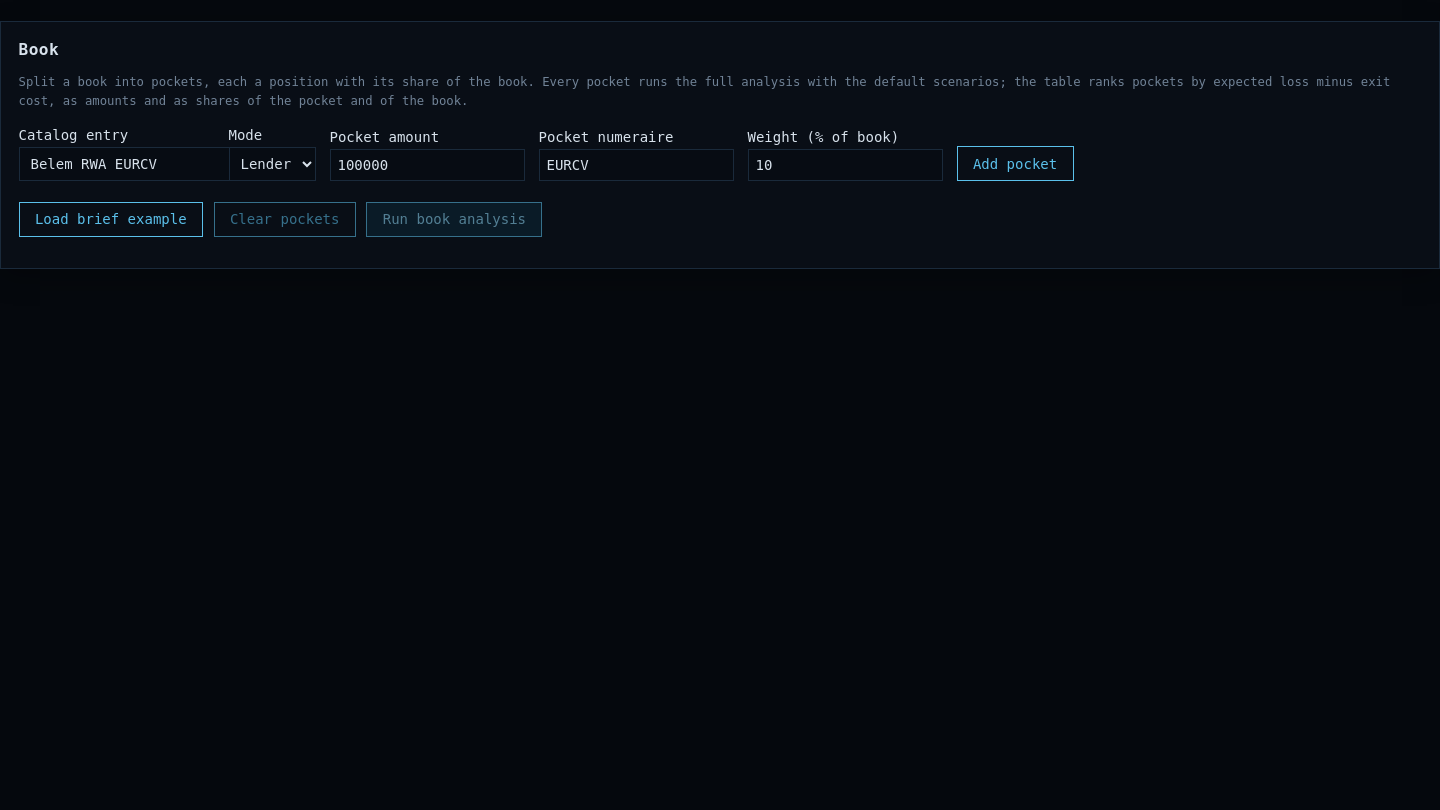
Test case: BookPanel › loads the brief example, runs it, and shows a ranked table with book totals
The width and height of the screenshot is (1440, 810).
Click the button "Load brief example" at (111, 219), box [18, 202, 203, 237]
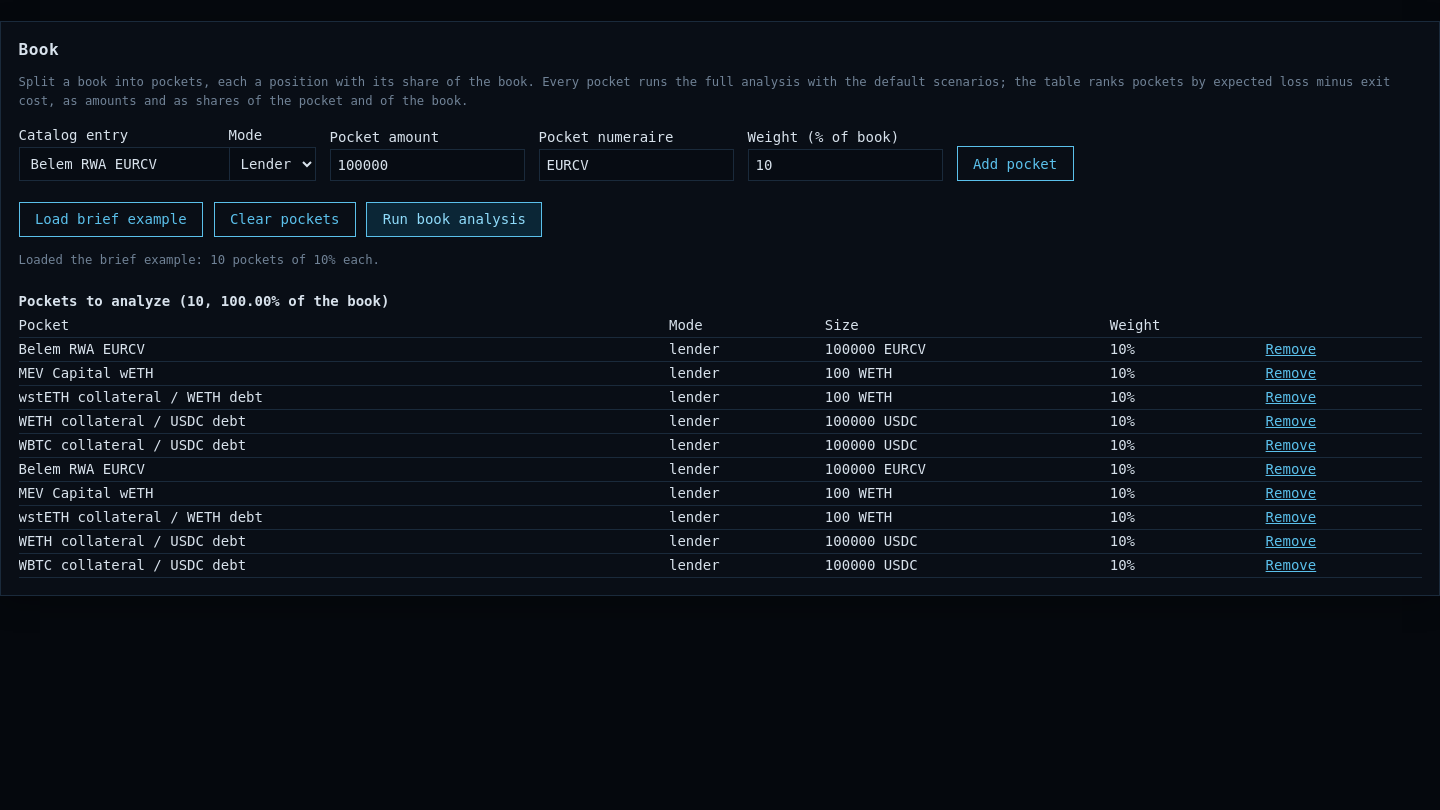
Expected: the number of rows is 11
Click the button "Run book analysis" at (454, 219), box [366, 202, 542, 237]
(page scrolled)
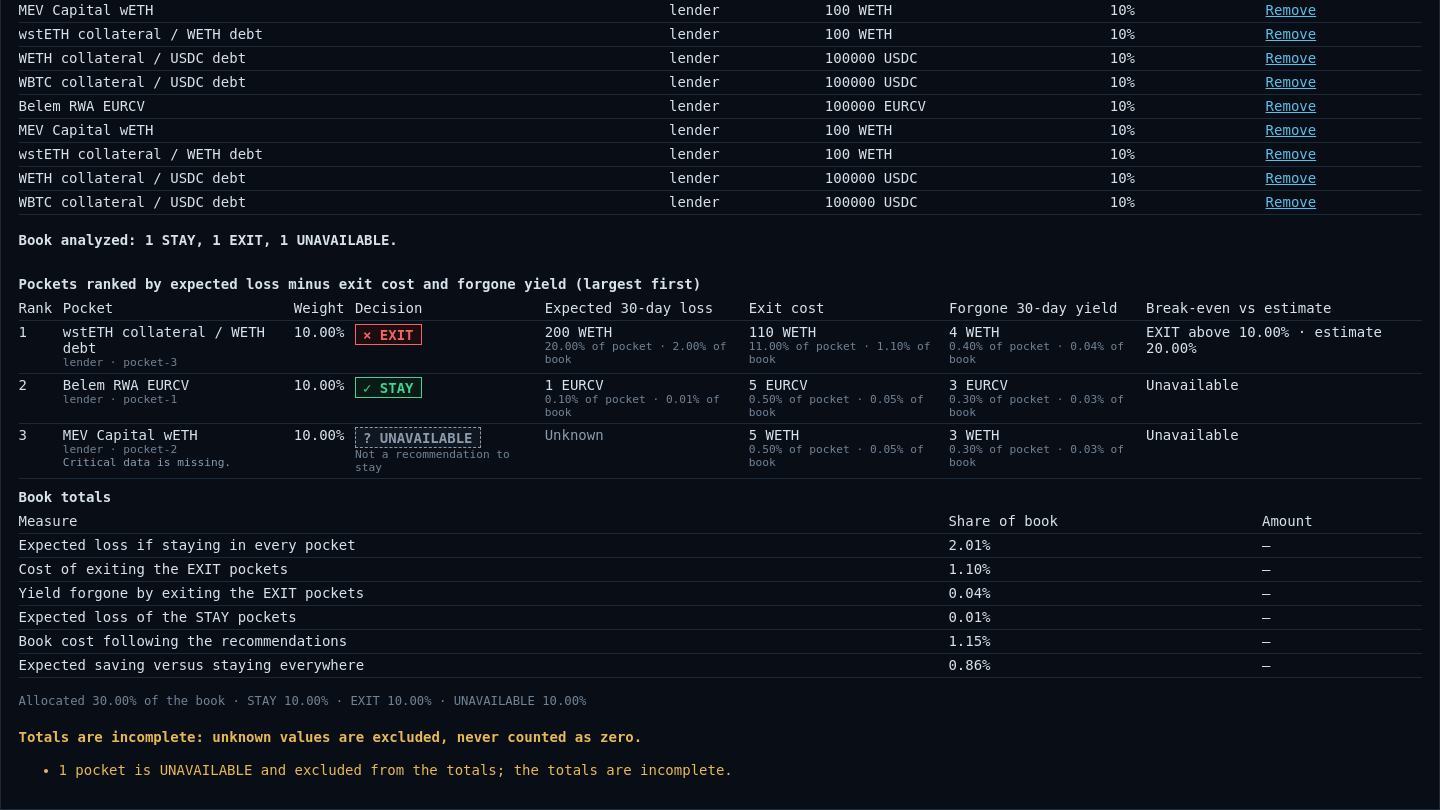
Expected: the text "Book analyzed: 1 STAY, 1 EXIT, 1 UNAVAILABLE." is shown, [18, 232, 398, 248]
Expected: the column heading "wstETH collateral / WETH debt lender · pocket-3" is shown, [63, 320, 294, 373]
Expected: the text "200 WETH" is shown, [545, 324, 612, 340]
